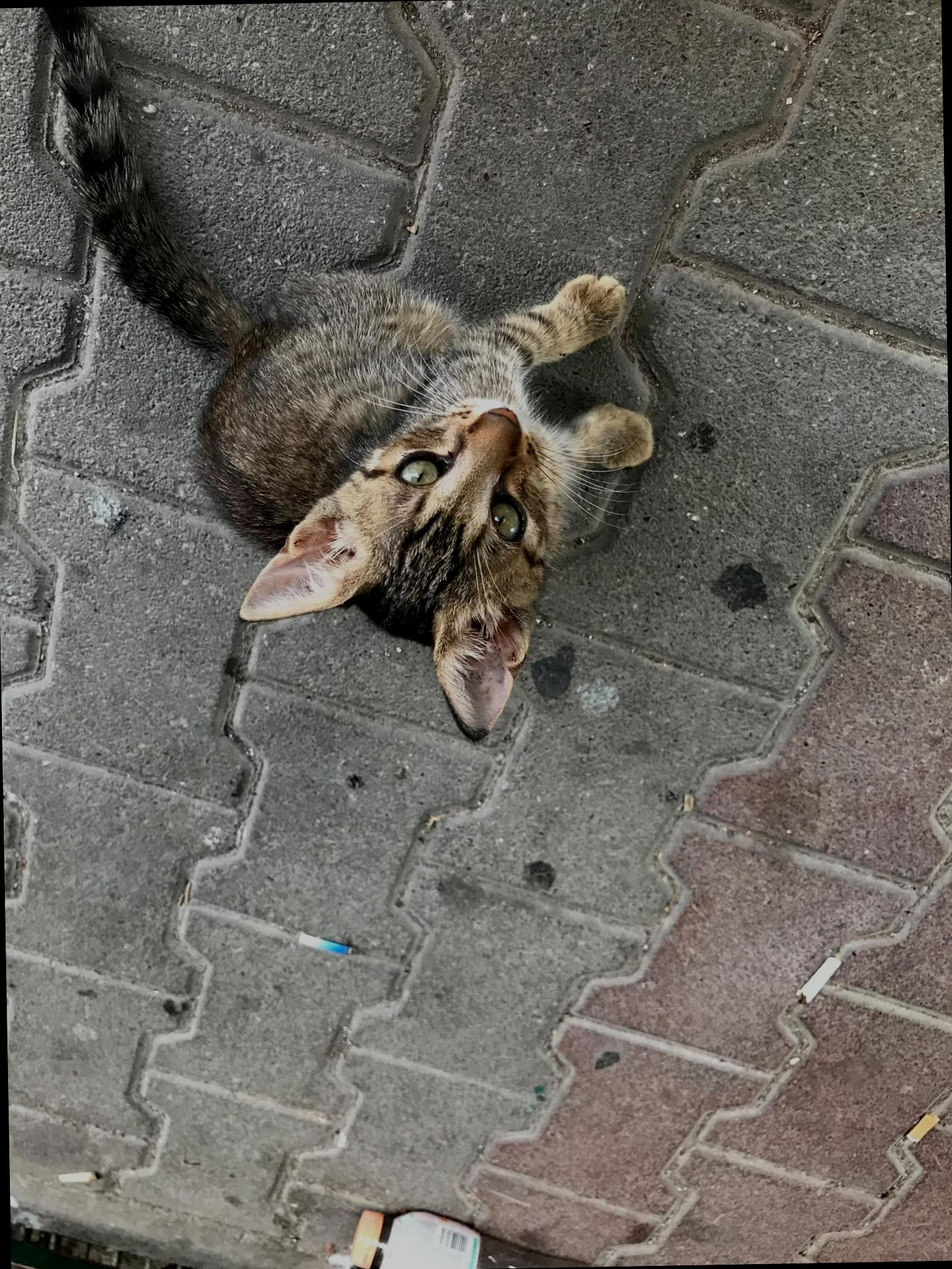macka: (39, 0, 664, 757)
